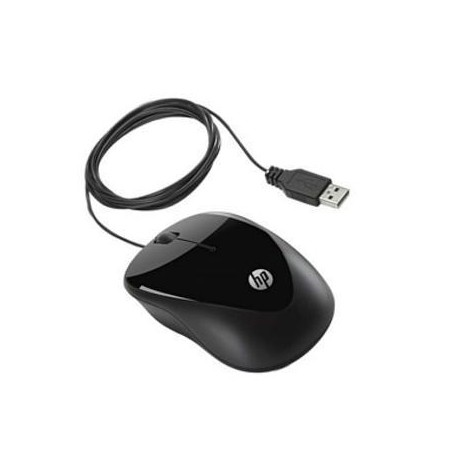hp-mouse-X1000: (40, 59, 418, 394)
